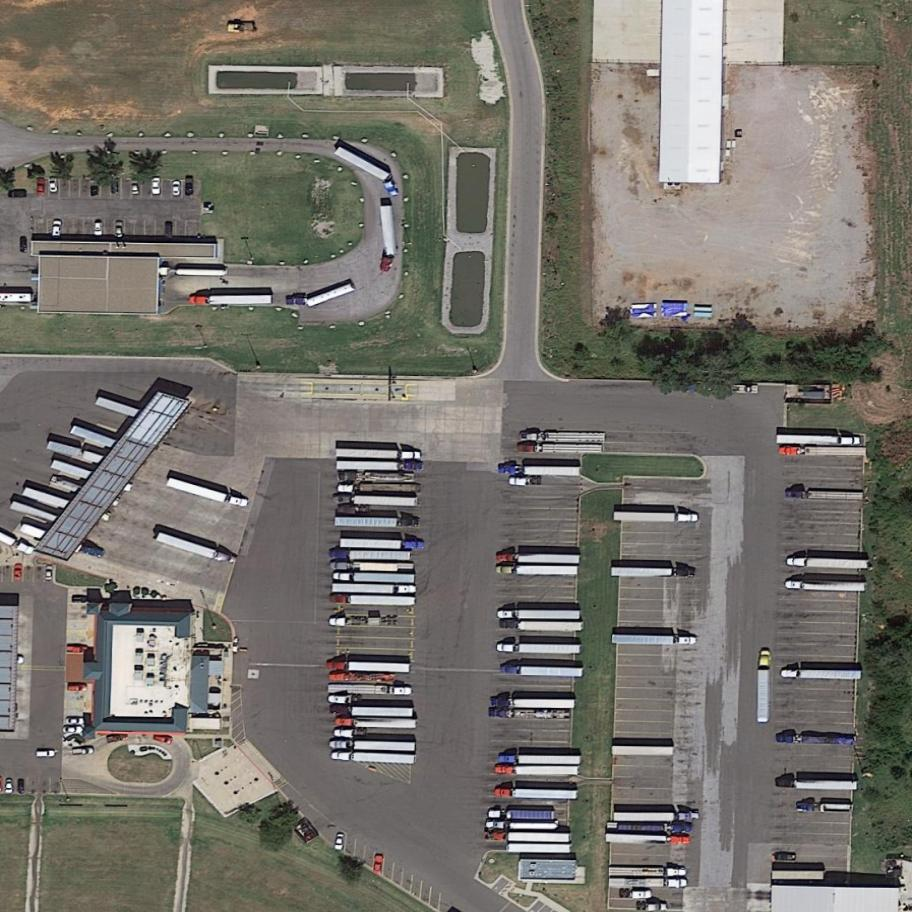large-vehicle: (45, 439, 142, 478), (17, 520, 108, 560), (20, 485, 112, 522), (8, 500, 98, 537), (92, 396, 183, 432), (70, 424, 160, 460), (49, 457, 135, 494), (165, 476, 249, 509), (46, 473, 122, 509), (157, 532, 238, 565), (331, 749, 415, 765), (378, 206, 398, 273), (329, 592, 416, 606), (756, 651, 772, 723), (606, 833, 691, 846), (333, 582, 417, 595), (776, 777, 857, 790), (520, 431, 606, 443), (330, 740, 416, 752), (497, 642, 582, 654), (328, 684, 413, 696), (608, 821, 693, 833), (492, 697, 575, 709), (331, 705, 414, 717), (190, 294, 272, 306), (340, 538, 426, 549), (608, 877, 686, 889), (498, 553, 582, 564), (495, 765, 579, 776), (494, 788, 578, 799), (335, 496, 419, 507), (500, 666, 583, 677), (499, 754, 581, 765), (487, 832, 569, 843), (336, 718, 418, 729), (490, 709, 571, 720), (497, 565, 578, 576), (786, 580, 866, 591), (788, 557, 868, 568), (780, 447, 867, 457), (516, 444, 602, 454), (337, 461, 423, 471), (329, 562, 415, 572), (777, 734, 855, 745), (336, 448, 421, 458), (778, 435, 862, 445), (498, 610, 581, 620), (612, 634, 695, 644), (614, 811, 697, 821), (336, 516, 419, 526), (500, 620, 582, 630), (330, 550, 412, 560), (500, 466, 581, 476), (615, 512, 696, 522), (781, 668, 862, 678), (609, 867, 687, 877), (325, 663, 410, 672), (333, 573, 416, 582), (160, 266, 227, 277), (612, 568, 693, 577), (329, 616, 399, 626), (788, 491, 863, 500), (340, 484, 422, 492), (486, 821, 557, 830), (488, 810, 555, 819), (329, 673, 396, 682), (797, 803, 852, 813)
small-vehicle: (153, 731, 175, 746), (106, 731, 129, 745), (371, 852, 385, 875), (332, 831, 346, 851), (50, 219, 63, 240), (35, 748, 57, 759), (113, 220, 125, 238), (67, 682, 88, 692), (90, 178, 101, 197), (66, 645, 87, 654), (171, 180, 182, 197), (14, 563, 24, 581), (151, 177, 161, 195), (36, 178, 48, 193), (45, 564, 55, 581), (94, 220, 104, 237), (111, 177, 121, 194), (62, 725, 83, 733), (19, 235, 28, 253), (3, 778, 13, 794), (72, 748, 94, 755), (65, 716, 84, 724), (186, 177, 194, 195), (49, 177, 58, 193), (8, 191, 26, 198), (132, 178, 139, 195), (18, 778, 24, 794)
